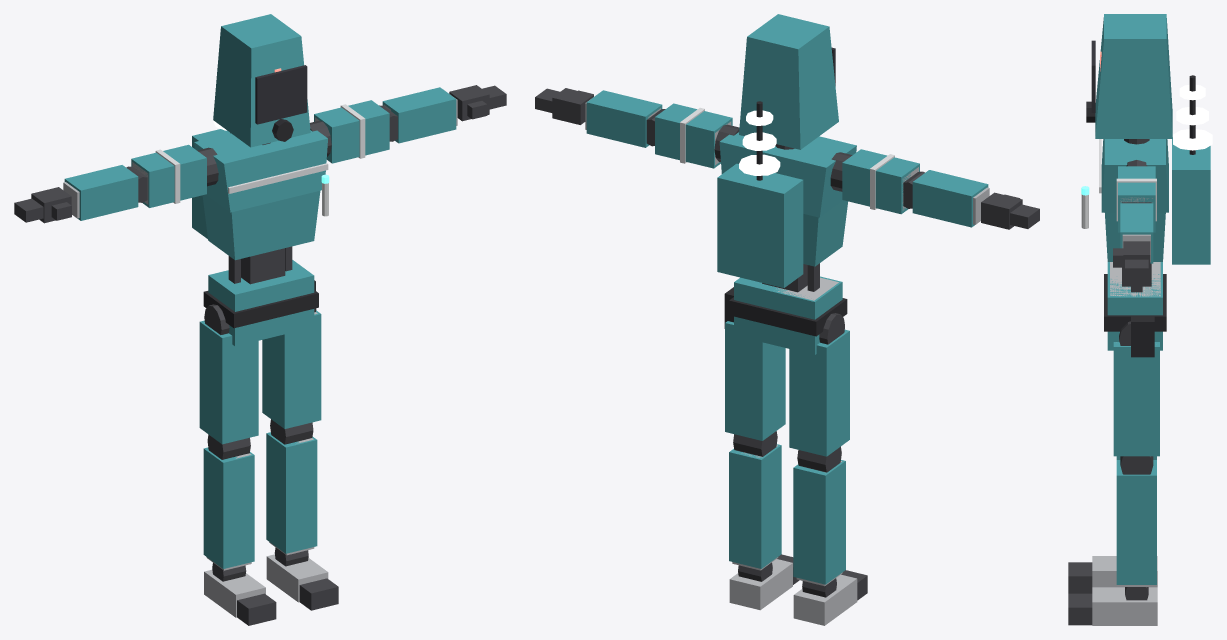
Rendered from char_F2_scientist.glb.
3 renders of one model, left to right at view 1: azimuth 30°, elevation 25°; view 2: azimuth 150°, elevation 25°; view 3: azimuth 270°, elevation 25°, orthographic. The views are drawn at different scales.
Visible parts, largest first — view 1: Head_mesh, UpperChest_mesh, RightUpperLeg_mesh, RightLowerLeg_mesh, LeftLowerLeg_mesh, Hips_mesh, LeftUpperLeg_mesh, Chest_mesh, RightLowerArm_mesh, RightUpperArm_mesh, LeftUpperArm_mesh, LeftLowerArm_mesh (+7 smaller); view 2: UpperChest_mesh, Head_mesh, RightUpperLeg_mesh, RightLowerLeg_mesh, LeftLowerLeg_mesh, Hips_mesh, LeftUpperLeg_mesh, RightLowerArm_mesh, RightUpperArm_mesh, LeftUpperArm_mesh, LeftLowerArm_mesh, RightFoot_mesh (+4 smaller); view 3: Head_mesh, UpperChest_mesh, LeftLowerLeg_mesh, LeftUpperLeg_mesh, Hips_mesh, LeftFoot_mesh, LeftUpperArm_mesh, LeftLowerArm_mesh, LeftHand_mesh, Chest_mesh, RightFoot_mesh, LeftToes_mesh (+3 smaller).
Boxes of the visible parts, x1,y1,x2,y2 form: Head_mesh: [213, 14, 310, 147]; UpperChest_mesh: [192, 120, 328, 238]; RightUpperLeg_mesh: [199, 304, 258, 444]; RightLowerLeg_mesh: [203, 434, 254, 570]; LeftLowerLeg_mesh: [266, 419, 317, 555]; Hips_mesh: [203, 260, 318, 346]; LeftUpperLeg_mesh: [262, 308, 321, 428]; Chest_mesh: [202, 191, 320, 260]; RightLowerArm_mesh: [63, 165, 147, 220]; RightUpperArm_mesh: [131, 144, 206, 207]; LeftUpperArm_mesh: [314, 100, 389, 163]; LeftLowerArm_mesh: [379, 87, 457, 143]; UpperChest_mesh: [717, 101, 856, 287]; Head_mesh: [739, 14, 838, 149]; RightUpperLeg_mesh: [789, 313, 849, 456]; RightLowerLeg_mesh: [793, 446, 845, 586]; LeftLowerLeg_mesh: [729, 431, 781, 570]; Hips_mesh: [724, 276, 847, 354]; LeftUpperLeg_mesh: [725, 321, 785, 440]; RightLowerArm_mesh: [903, 170, 989, 227]; RightUpperArm_mesh: [842, 149, 919, 214]; LeftUpperArm_mesh: [655, 103, 732, 168]; LeftLowerArm_mesh: [585, 90, 665, 147]; RightFoot_mesh: [793, 574, 857, 625]; Head_mesh: [1086, 14, 1172, 138]; UpperChest_mesh: [1099, 75, 1212, 264]; LeftLowerLeg_mesh: [1116, 456, 1156, 586]; LeftUpperLeg_mesh: [1113, 321, 1159, 456]; Hips_mesh: [1104, 262, 1166, 357]; LeftFoot_mesh: [1092, 587, 1157, 625]; LeftUpperArm_mesh: [1116, 166, 1156, 232]; LeftLowerArm_mesh: [1120, 202, 1153, 263]; LeftHand_mesh: [1113, 241, 1150, 279]; Chest_mesh: [1105, 212, 1165, 261]; RightFoot_mesh: [1092, 556, 1157, 587]; LeftToes_mesh: [1068, 593, 1092, 625].
Bounding box in the file's own units: 1.69 × 1.88 × 0.4264.
